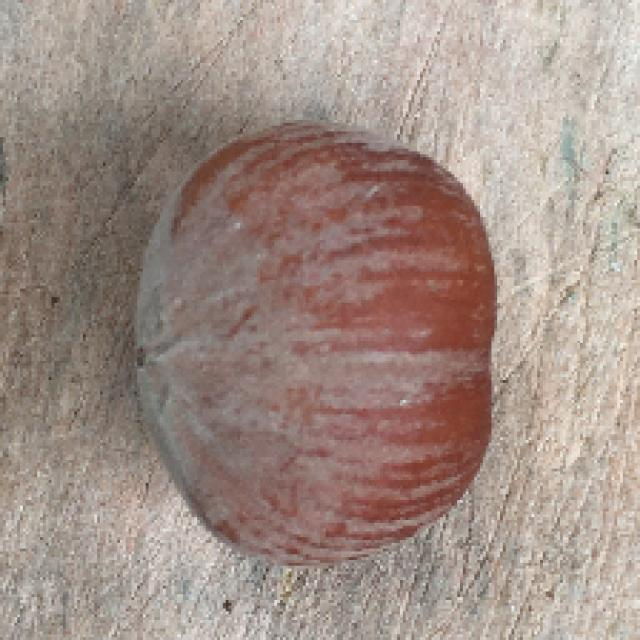QualityHazelnut: (130, 121, 496, 565)
